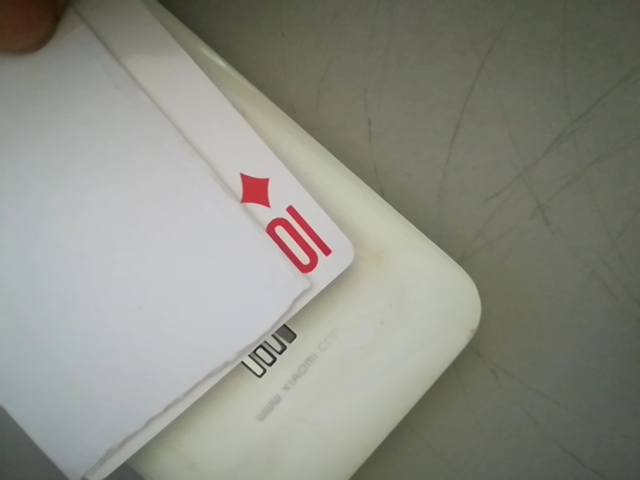fk 10: (226, 163, 345, 290)
